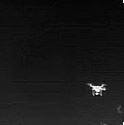Target: (88, 83, 107, 96)
